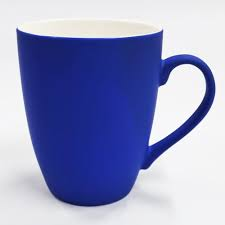mug: (8, 17, 222, 208)
